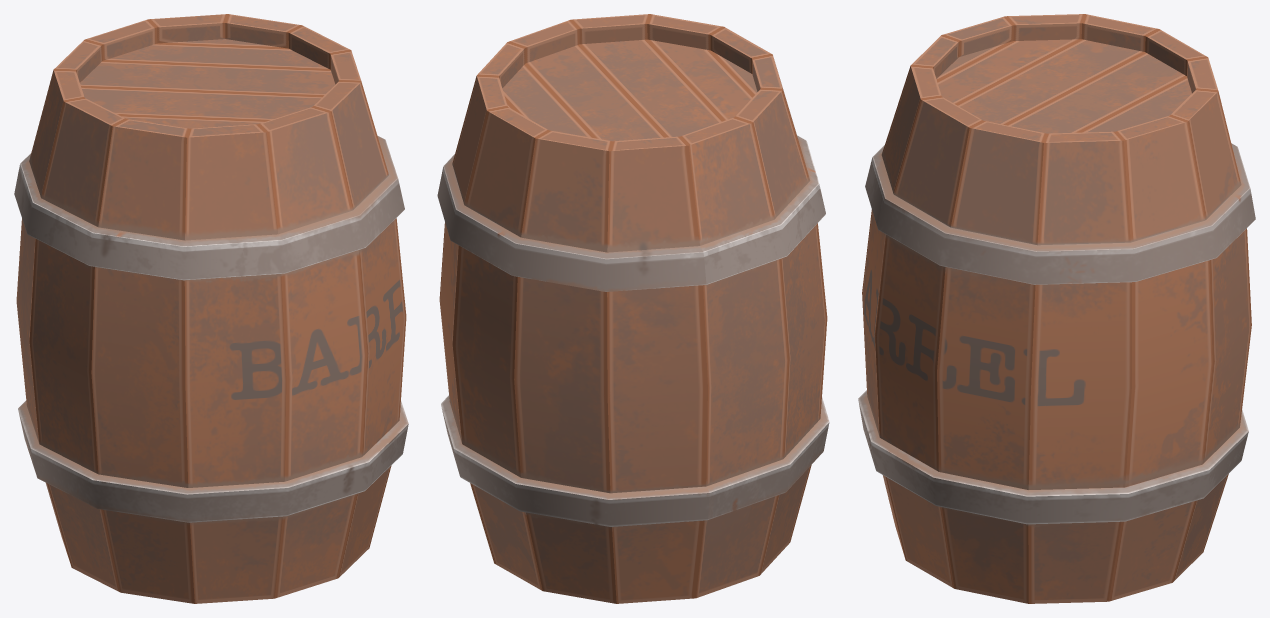
File: bARREL.fbx
3 renders of one model, left to right at view 1: azimuth 30°, elevation 25°; view 2: azimuth 150°, elevation 25°; view 3: azimuth 270°, elevation 25°, orthographic.
Visible parts, largest first — view 1: Cylinder; view 2: Cylinder; view 3: Cylinder.
Boxes of the visible parts, bbox=[...] form: Cylinder: bbox=[14, 14, 408, 603]; Cylinder: bbox=[437, 14, 829, 603]; Cylinder: bbox=[858, 14, 1255, 603].
Size of the model in its own units: 69.19 by 91.58 by 70.36.
1 material, 1 textured.
